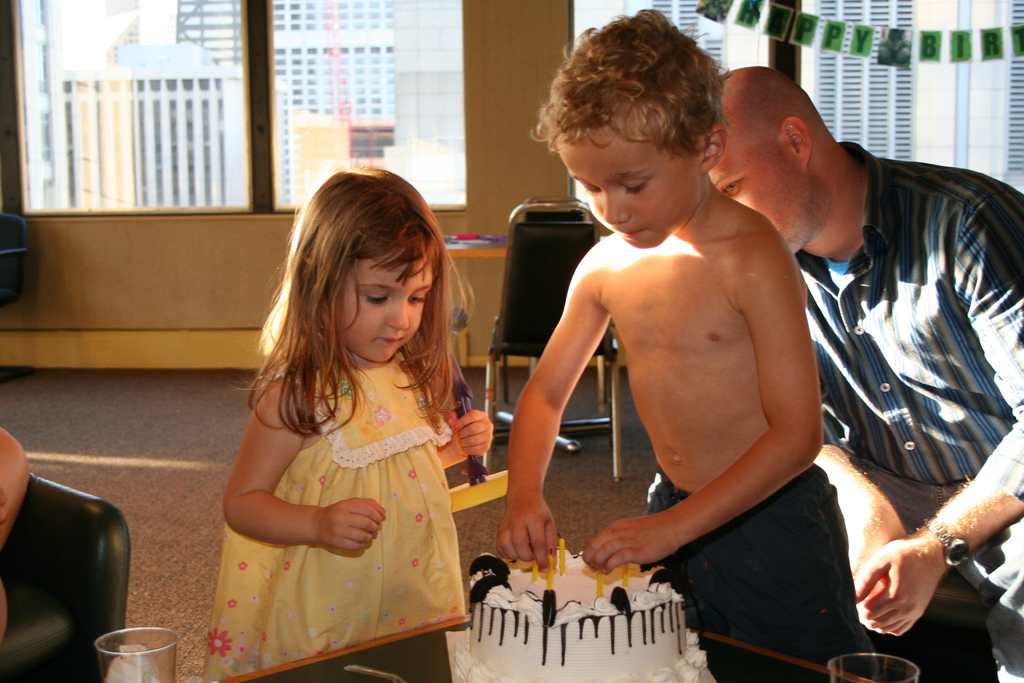cake: (449, 548, 708, 682)
